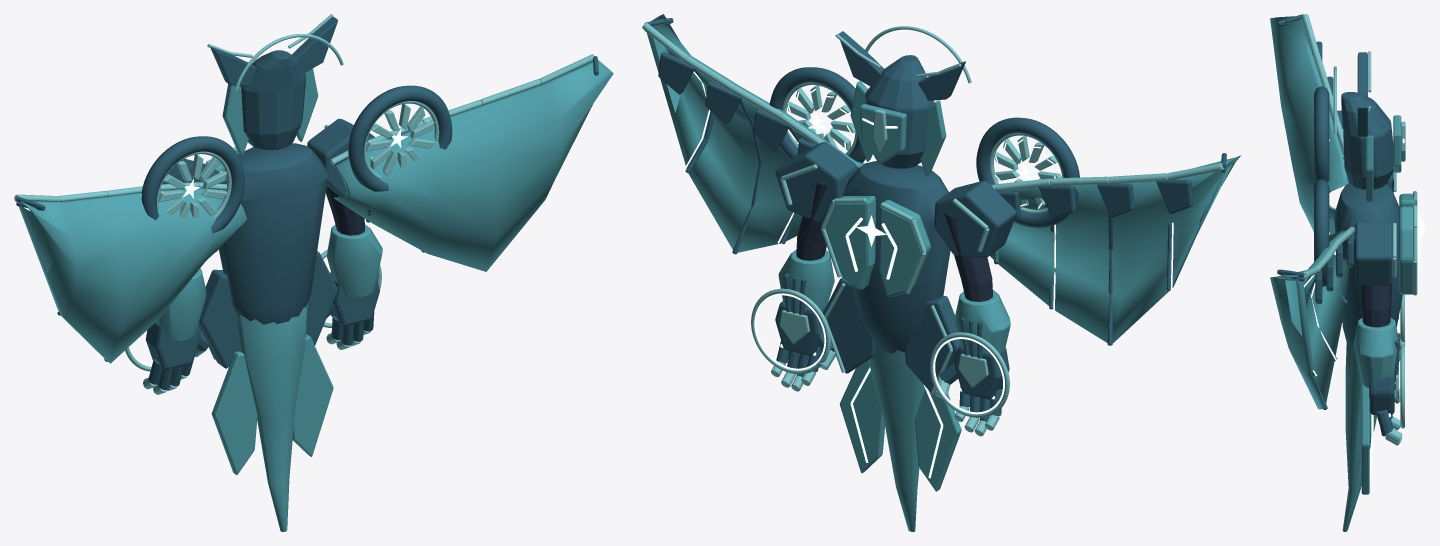
The model's file is thalassa.glb.
The picture shows the model from 3 angles, left to right: view 1: azimuth 30°, elevation 25°; view 2: azimuth 150°, elevation 25°; view 3: azimuth 270°, elevation 25°; orthographic projection. The views are drawn at different scales.
Visible parts, largest first — view 1: BodyDetails, WingRight, WingLeft, ArmRightGeometry, ArmLeftGeometry, TurbineRightGeometry, TurbineLeftGeometry, BodyArmor; view 2: BodyDetails, WingLeft, WingRight, ArmLeftGeometry, ArmRightGeometry, TurbineRightGeometry, TurbineLeftGeometry, BodyArmor; view 3: BodyDetails, ArmRightGeometry, WingLeft, WingRight, BodyArmor, ArmLeftGeometry.
Boxes of the visible parts, <box> form: BodyDetails: <box>141,14,452,531</box>; WingRight: <box>330,54,613,271</box>; WingLeft: <box>14,182,247,363</box>; ArmRightGeometry: <box>307,118,382,349</box>; ArmLeftGeometry: <box>125,158,227,394</box>; TurbineRightGeometry: <box>366,104,434,176</box>; TurbineLeftGeometry: <box>158,154,227,218</box>; BodyArmor: <box>210,47,256,86</box>; BodyDetails: <box>769,26,1079,531</box>; WingLeft: <box>990,153,1241,345</box>; WingRight: <box>642,14,864,254</box>; ArmLeftGeometry: <box>930,181,1016,436</box>; ArmRightGeometry: <box>751,141,857,391</box>; TurbineRightGeometry: <box>787,85,855,150</box>; TurbineLeftGeometry: <box>993,136,1062,210</box>; BodyArmor: <box>918,61,965,100</box>; BodyDetails: <box>1314,51,1420,531</box>; ArmRightGeometry: <box>1354,221,1405,445</box>; WingLeft: <box>1270,14,1349,235</box>; WingRight: <box>1270,226,1355,409</box>; BodyArmor: <box>1357,52,1367,96</box>; ArmLeftGeometry: <box>1386,171,1405,361</box>.
Bounding box in the file's own units: 4.48 × 3.68 × 1.13.
